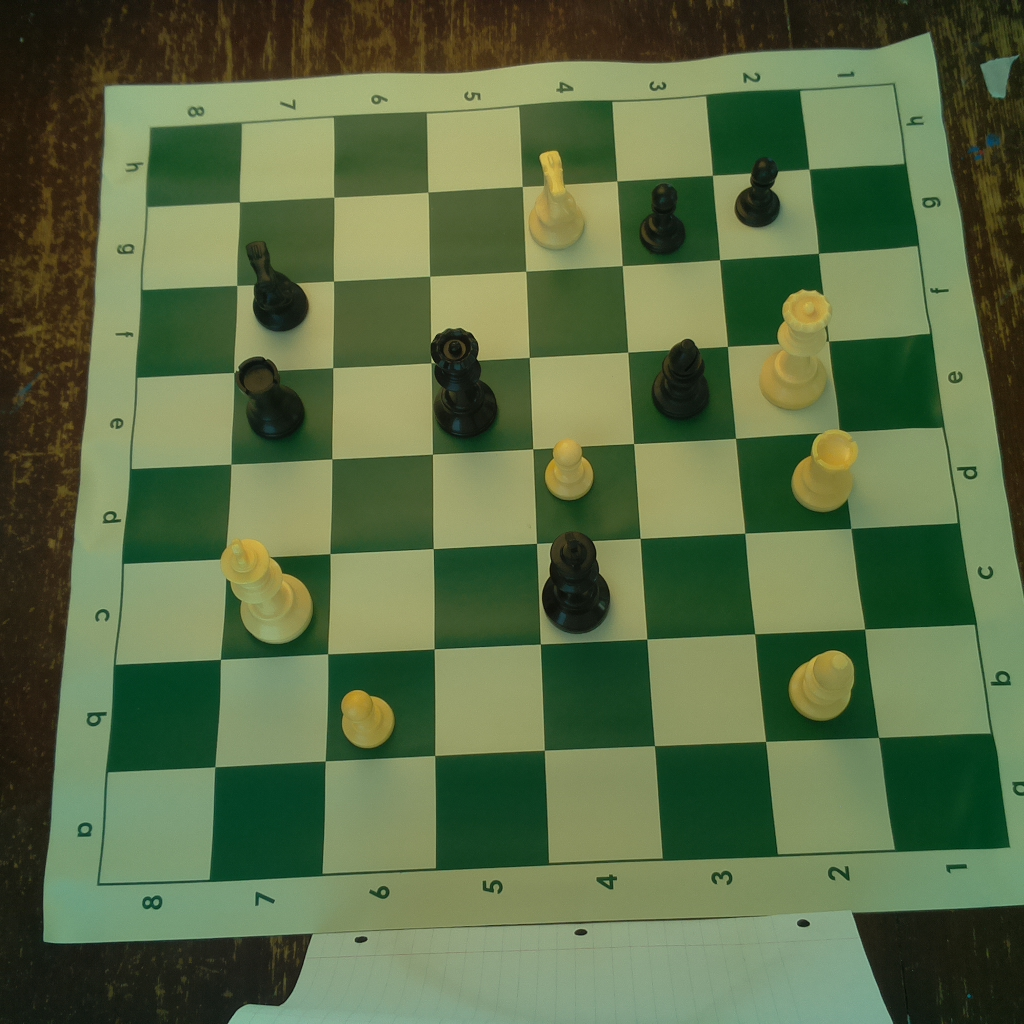black_bishop: (647, 334, 719, 427)
black_king: (538, 525, 614, 634)
black_knight: (240, 230, 315, 332)
black_pawn: (731, 153, 792, 231), (631, 180, 690, 258)
black_queen: (425, 322, 502, 444)
black_rook: (234, 352, 308, 445)
file_a: (97, 734, 1010, 882)
file_b: (108, 625, 990, 770)
file_c: (114, 522, 975, 666)
file_d: (124, 427, 960, 564)
file_e: (132, 332, 945, 469)
file_f: (134, 245, 934, 377)
file_g: (140, 165, 918, 292)
file_h: (145, 87, 910, 210)
outline: (96, 83, 1011, 883)
rank_1: (802, 84, 1008, 857)
rank_2: (707, 88, 893, 856)
rank_3: (610, 95, 779, 858)
rank_4: (520, 100, 662, 865)
rank_5: (427, 106, 547, 869)
rank_6: (320, 113, 436, 869)
rank_7: (210, 118, 336, 882)
rank_8: (97, 122, 245, 887)
white_bishop: (783, 644, 858, 726)
white_king: (215, 528, 314, 647)
white_knight: (519, 145, 590, 252)
white_pawn: (336, 683, 398, 752), (540, 432, 599, 501)
white_queen: (759, 283, 836, 414)
white_rook: (784, 423, 867, 519)
